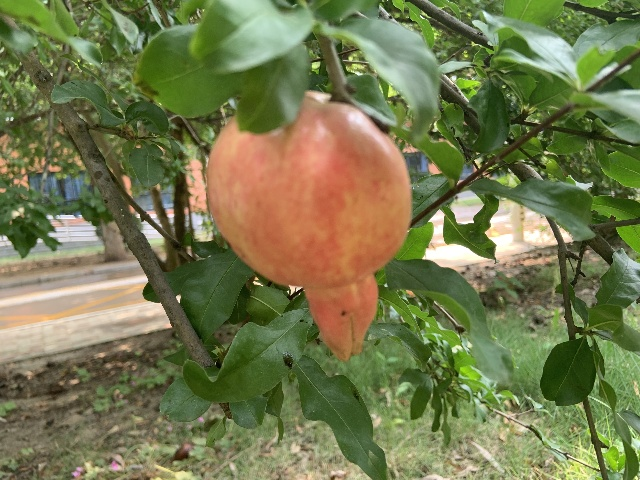ripe: (206, 91, 411, 360)
